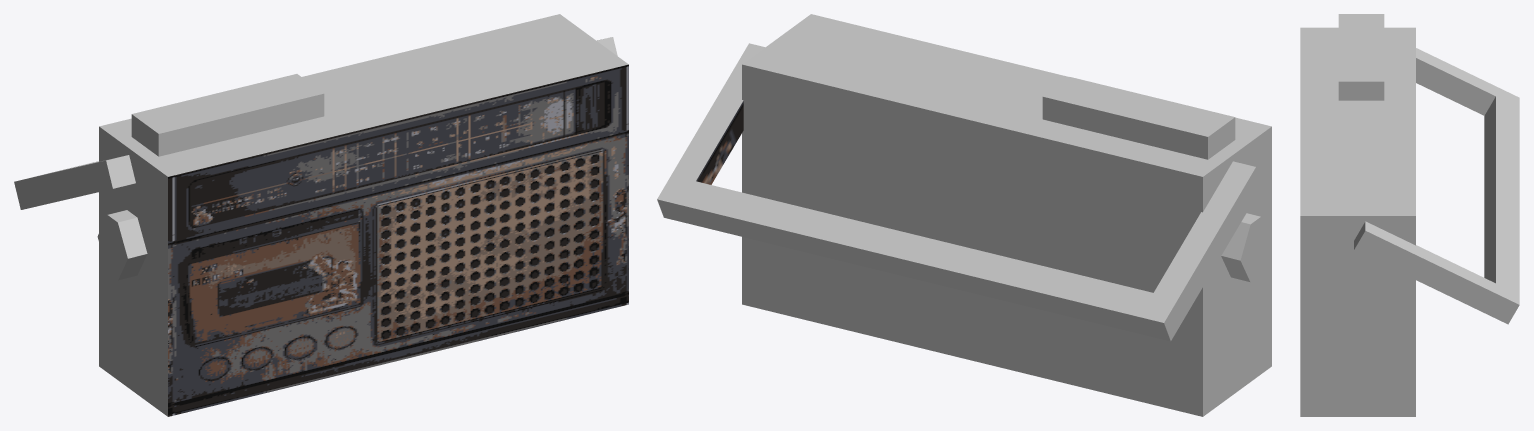
Rendered from Radio.fbx.
The picture shows the model from 3 angles, left to right: view 1: azimuth 30°, elevation 25°; view 2: azimuth 150°, elevation 25°; view 3: azimuth 270°, elevation 25°; orthographic projection. The views are drawn at different scales.
Parts seen in each view (by area): view 1: Radio; view 2: Radio; view 3: Radio.
Boxes of the visible parts, x1=… form: Radio: x1=14, y1=14, x2=628, y2=416; Radio: x1=657, y1=14, x2=1271, y2=416; Radio: x1=1300, y1=14, x2=1519, y2=416.
Size of the model in its own units: 442 by 219 by 198.
